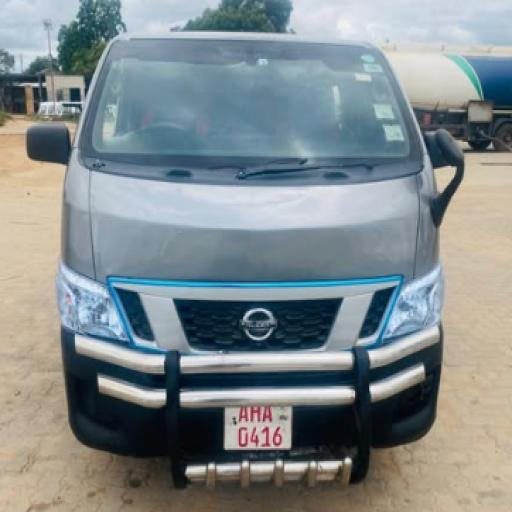number-plates: (224, 404, 291, 448)
